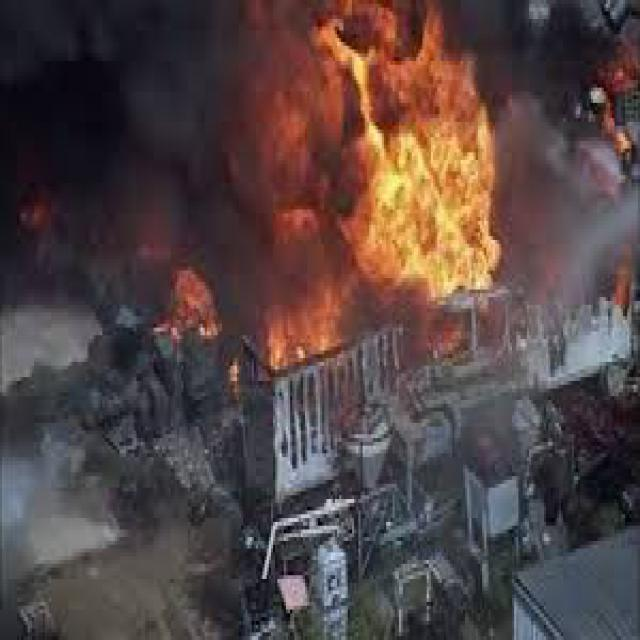Fire: (252, 10, 500, 294)
Smoke: (0, 0, 220, 419)
